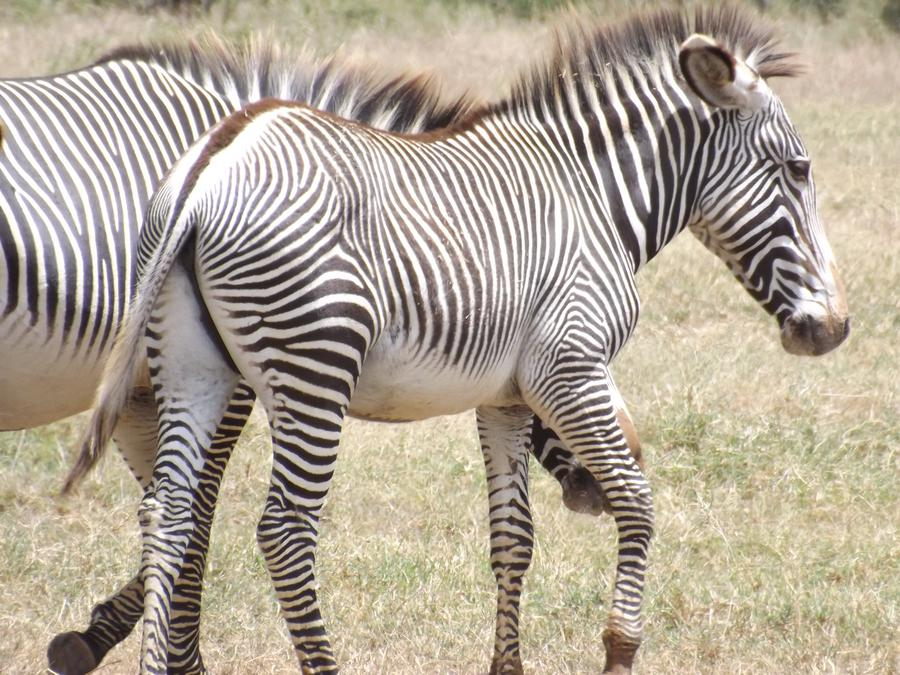zebra_grevys: (184, 95, 618, 360)
